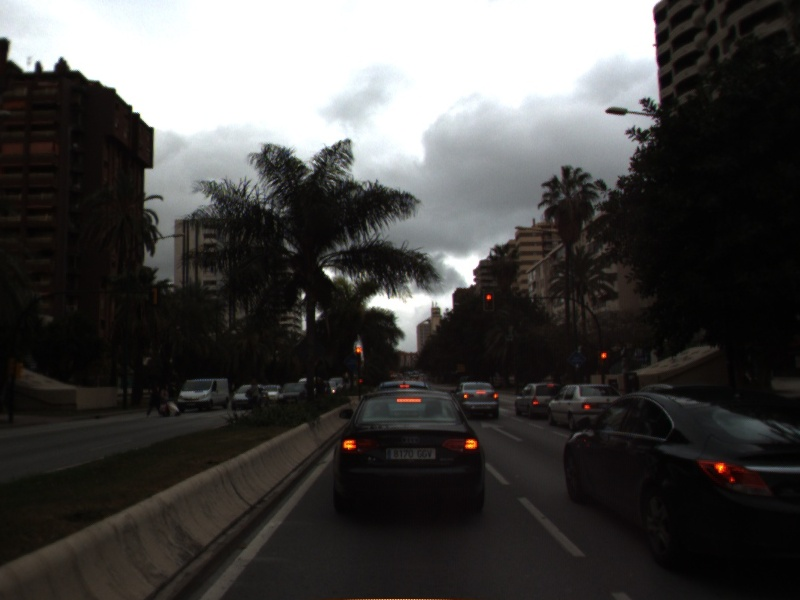STRAIGHT: (478, 418, 525, 444)
